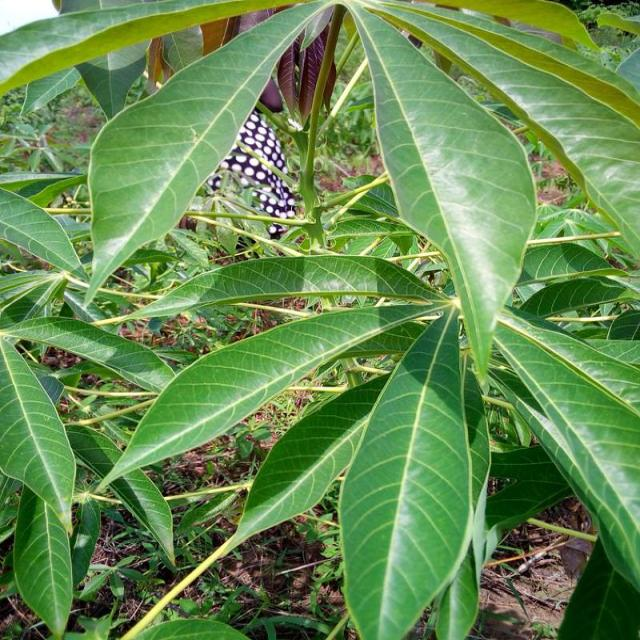cassava leaf: (2, 0, 640, 638), (84, 0, 336, 307), (346, 0, 540, 389), (338, 302, 476, 638)
